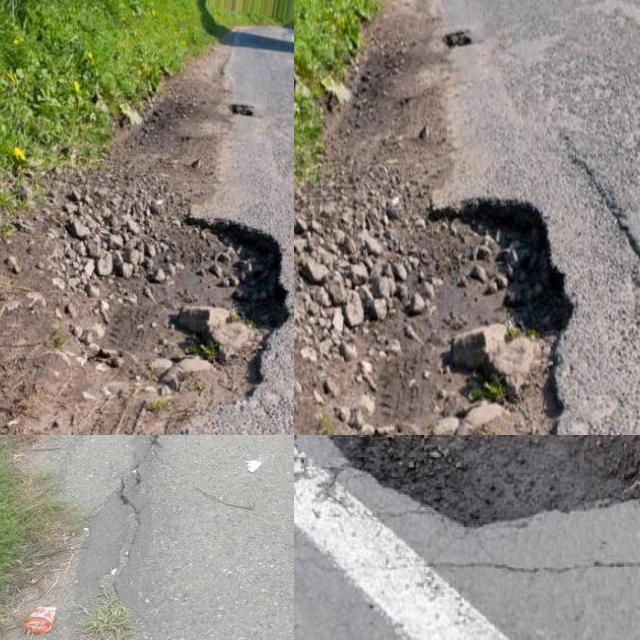Pinggir: (383, 180, 599, 435), (101, 203, 294, 435), (0, 435, 171, 640), (294, 435, 640, 532)
